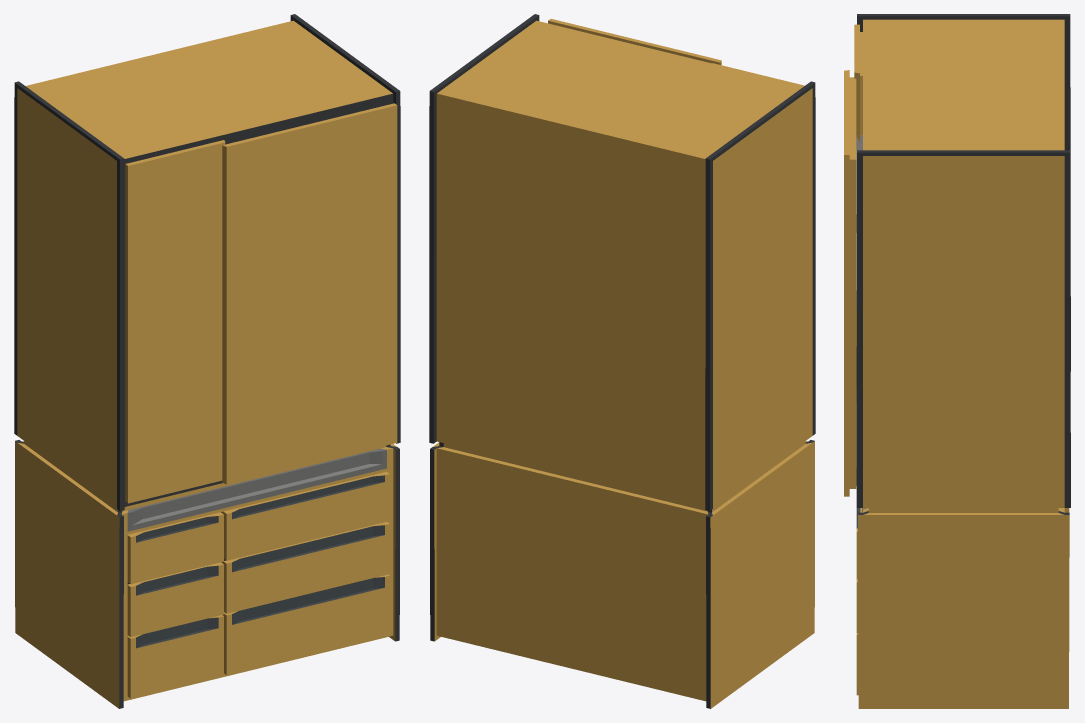
The model's file is modernrefrigerator_01_D.gltf.
3 views of the same model, side by side, from view 1: azimuth 30°, elevation 25°; view 2: azimuth 150°, elevation 25°; view 3: azimuth 270°, elevation 25° (orthographic).
Visible parts, largest first — view 1: modernrefrigerator_01_D, rightdoorofamodernrefrigerator_01_D, Leftdoorofamodernrefrigerator_01_D, pulloutrefrigeratorshelfright_01_02_D, pulloutrefrigeratorshelfright_01_03_D, pulloutrefrigeratorshelfright_01_01_D, pulloutrefrigeratorshelfleft_01_03_D, pulloutrefrigeratorshelfleft_01_02_D, pulloutrefrigeratorshelfleft_01_01_D; view 2: modernrefrigerator_01_D, rightdoorofamodernrefrigerator_01_D; view 3: modernrefrigerator_01_D, rightdoorofamodernrefrigerator_01_D, Leftdoorofamodernrefrigerator_01_D.
Boxes of the visible parts, <box> form: modernrefrigerator_01_D: <box>14,14,400,708</box>; rightdoorofamodernrefrigerator_01_D: <box>222,103,397,484</box>; Leftdoorofamodernrefrigerator_01_D: <box>125,140,225,503</box>; pulloutrefrigeratorshelfright_01_02_D: <box>223,574,390,675</box>; pulloutrefrigeratorshelfright_01_03_D: <box>221,522,390,613</box>; pulloutrefrigeratorshelfright_01_01_D: <box>221,471,390,560</box>; pulloutrefrigeratorshelfleft_01_03_D: <box>127,615,223,698</box>; pulloutrefrigeratorshelfleft_01_02_D: <box>127,562,223,636</box>; pulloutrefrigeratorshelfleft_01_01_D: <box>127,512,223,583</box>; modernrefrigerator_01_D: <box>429,14,815,708</box>; rightdoorofamodernrefrigerator_01_D: <box>548,19,721,65</box>; modernrefrigerator_01_D: <box>856,14,1070,708</box>; rightdoorofamodernrefrigerator_01_D: <box>844,70,862,496</box>; Leftdoorofamodernrefrigerator_01_D: <box>854,24,862,389</box>.
Bounding box in the file's own units: 1.3 × 2.43 × 0.8996.
Materials: 1 (1 with a texture image).
